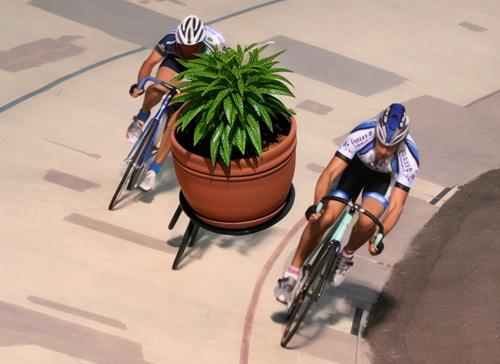bicycle: (280, 195, 386, 348), (172, 126, 261, 271), (107, 78, 200, 209)
person: (274, 103, 422, 303), (125, 14, 227, 194)
person/foot: (328, 250, 353, 289), (273, 275, 297, 304), (125, 117, 143, 144), (139, 171, 156, 193)
person/hand: (305, 204, 324, 224), (368, 236, 384, 256), (128, 84, 144, 98), (185, 116, 194, 128)
person/head: (374, 102, 409, 161), (173, 14, 207, 63)
pottedplant: (170, 43, 295, 234)
